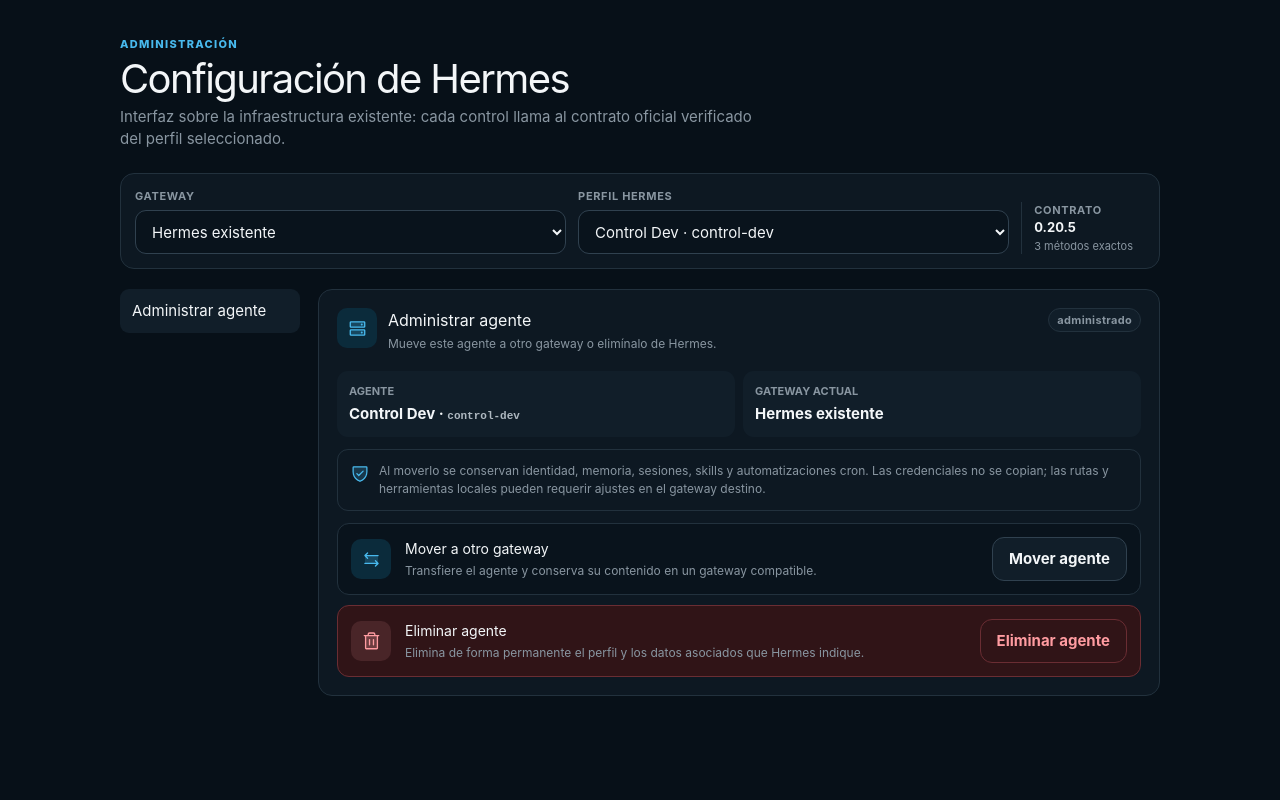
administración de perfil guiada por capacidades › announces an ongoing move and prevents closing or submitting the dialog twice
Click the button "Administrar agente".
click(210, 311)  # box left=120, top=289, right=300, bottom=333
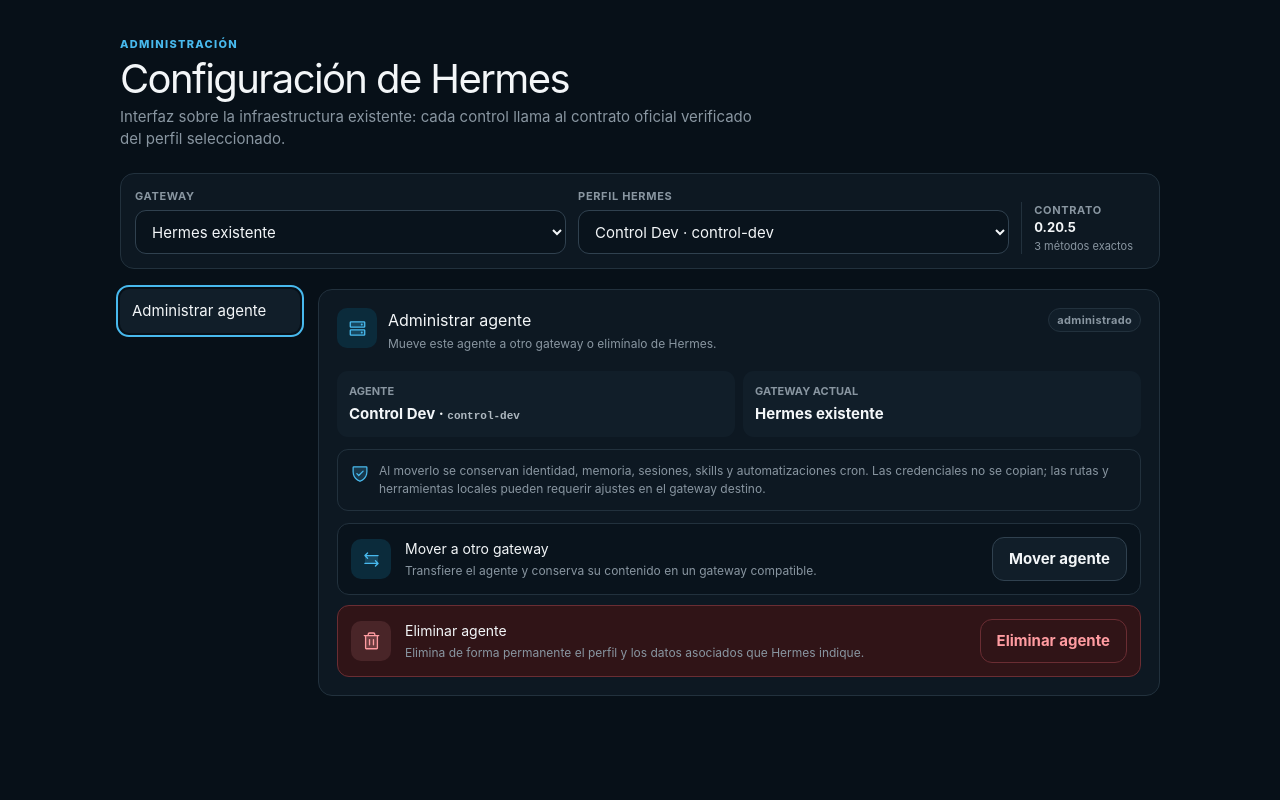
Click the button "Mover agente".
click(1060, 559)  # box left=992, top=537, right=1127, bottom=581
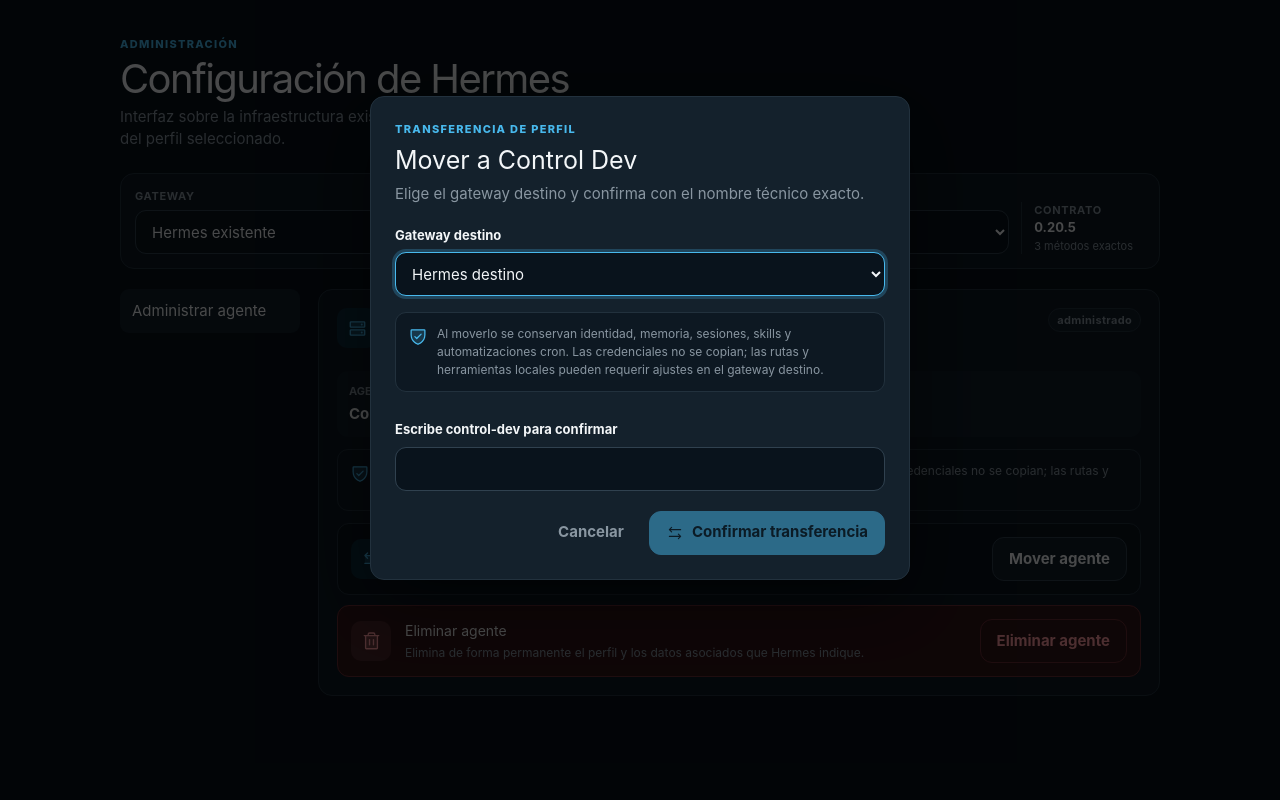
Type "control-dev" into the field labelled "Escribe control-dev para confirmar".
click(640, 468); type("control-dev")  # box left=395, top=446, right=885, bottom=490
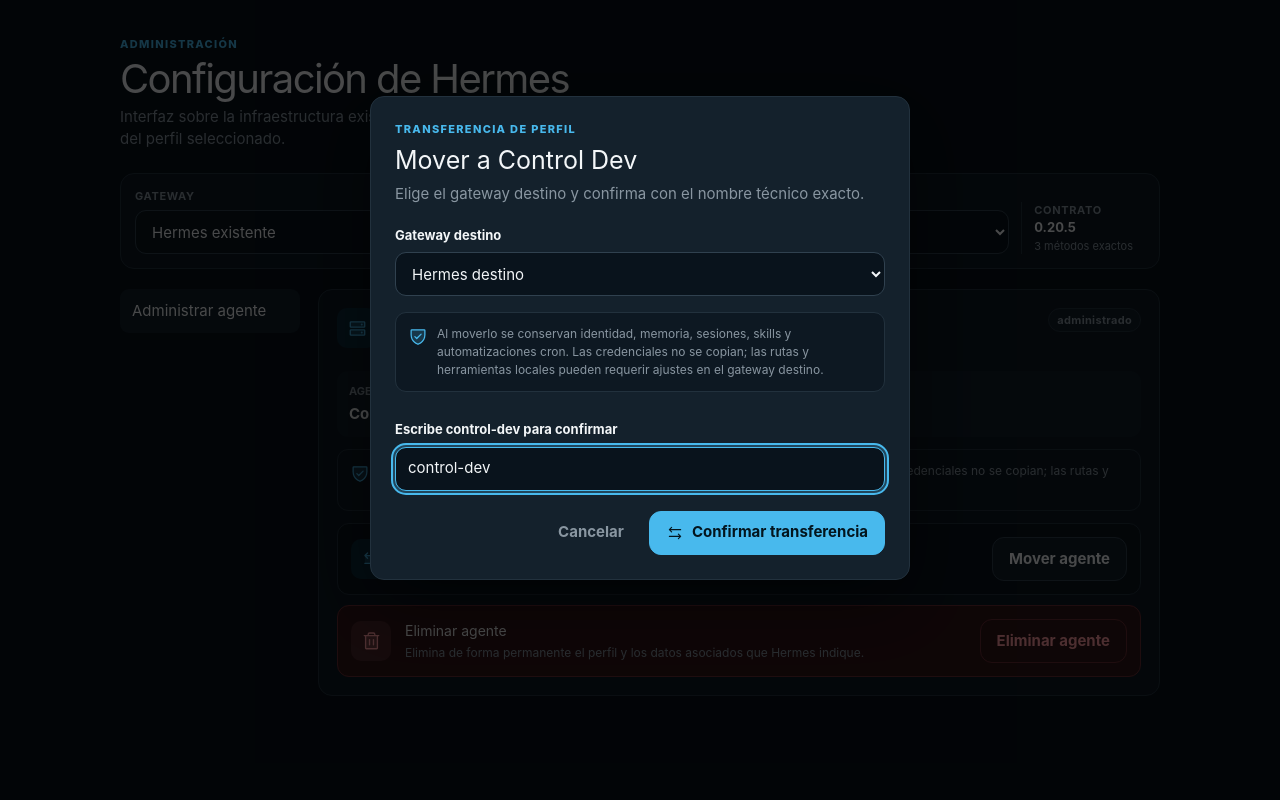
Click the button "Confirmar transferencia".
click(767, 532)  # box left=649, top=510, right=885, bottom=554
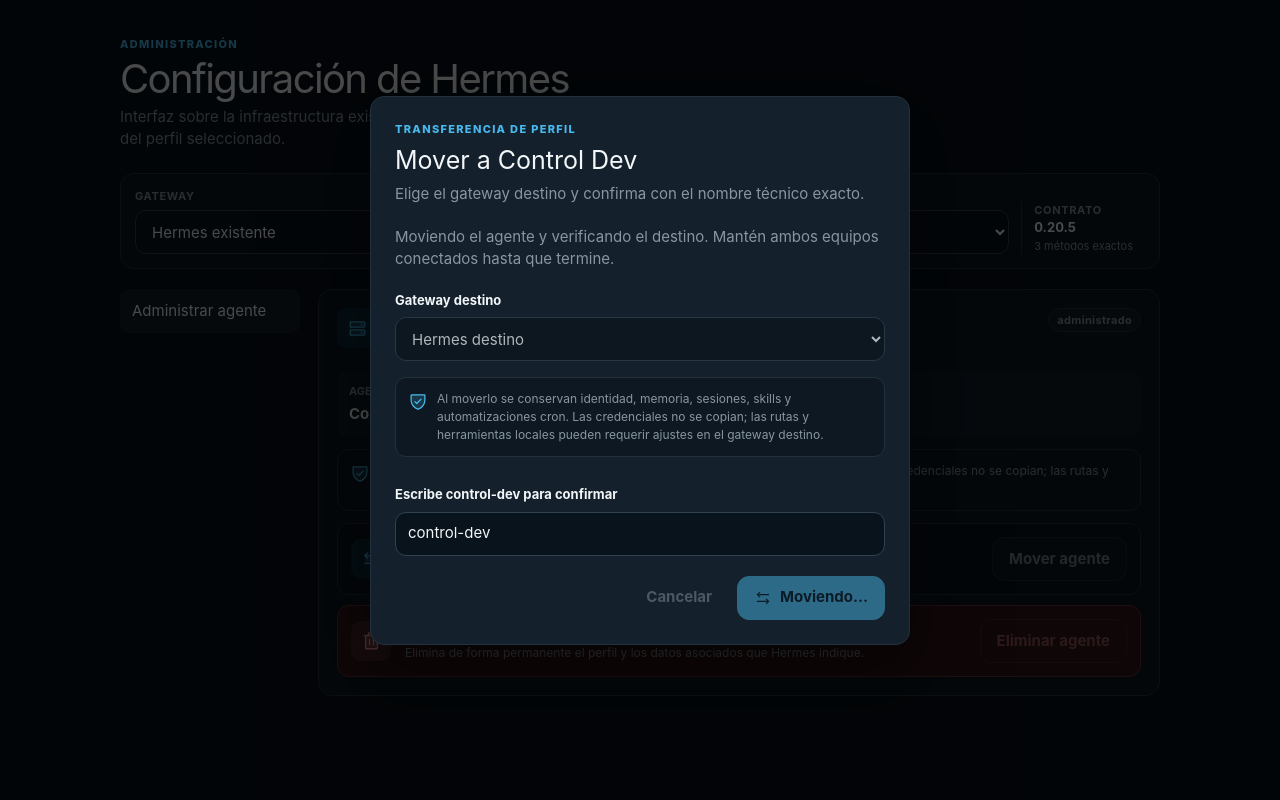
Now the message shows "Mantén ambos equipos conectados hasta que termine", box left=395, top=226, right=879, bottom=268
Now the button "Cancelar" is disabled, box left=629, top=576, right=729, bottom=620
Now the button "Moviendo…" is disabled, box left=737, top=576, right=885, bottom=620
Press Escape
Now the dialog "Mover a Control Dev" is shown
Submit the form, box left=395, top=290, right=885, bottom=620
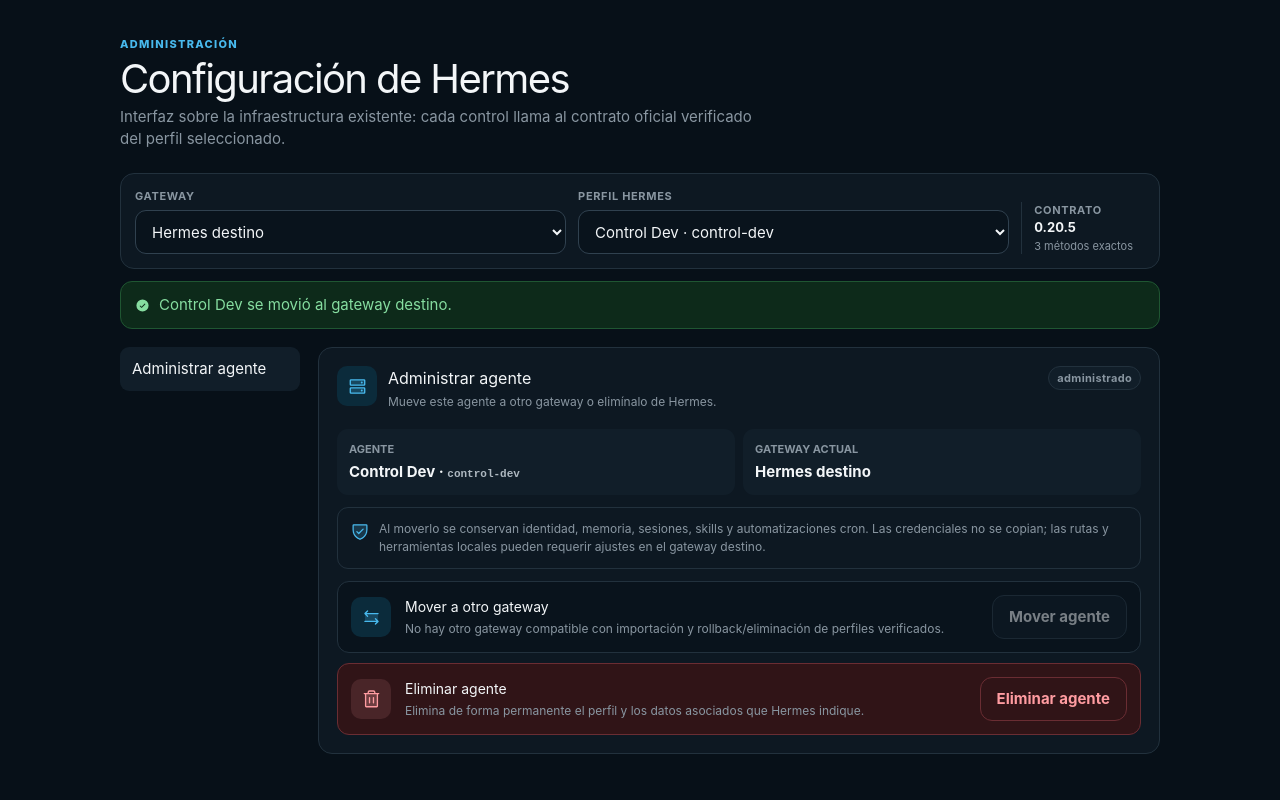
Now the dialog is gone
